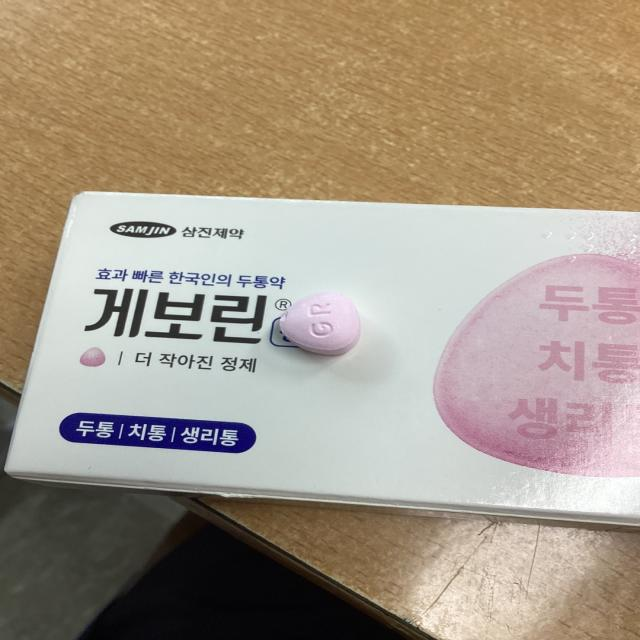-: (271, 275, 378, 367)
